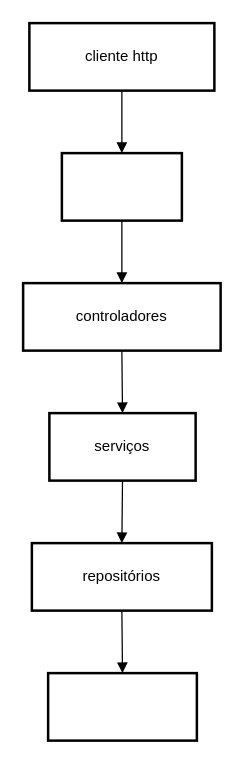
This 243x763 diagram has some shape labels left out. Each missing label, with the centre of its shape:
"modelos" goes at point (122, 706).
"rotas" goes at point (121, 186).
